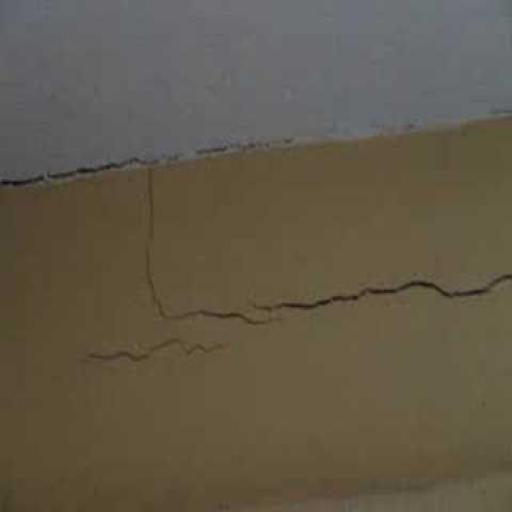spalling: (141, 176, 510, 328), (88, 334, 234, 371)
